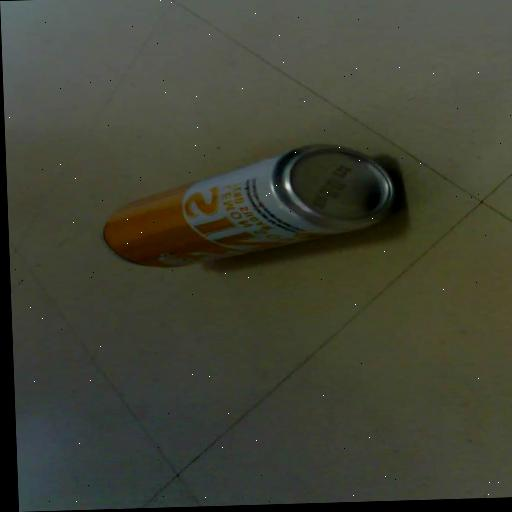canned: (72, 113, 420, 293)
